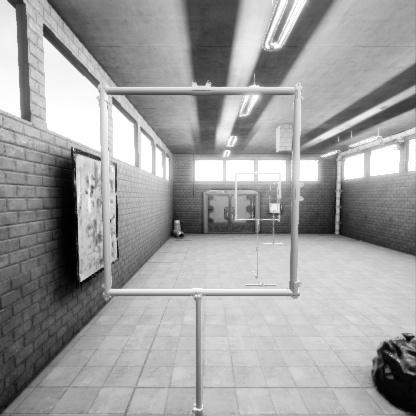gate: (110, 136, 305, 327), (236, 198, 283, 244), (269, 205, 278, 234)
